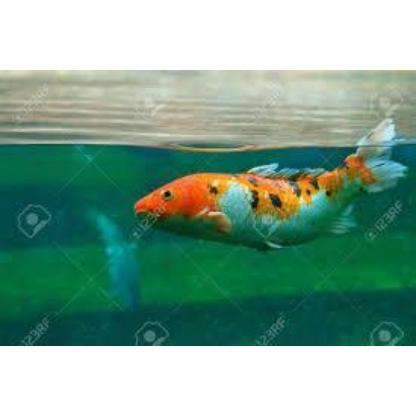ikan-mas: (129, 112, 408, 250)
